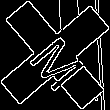M_NE: (21, 21, 89, 89)
